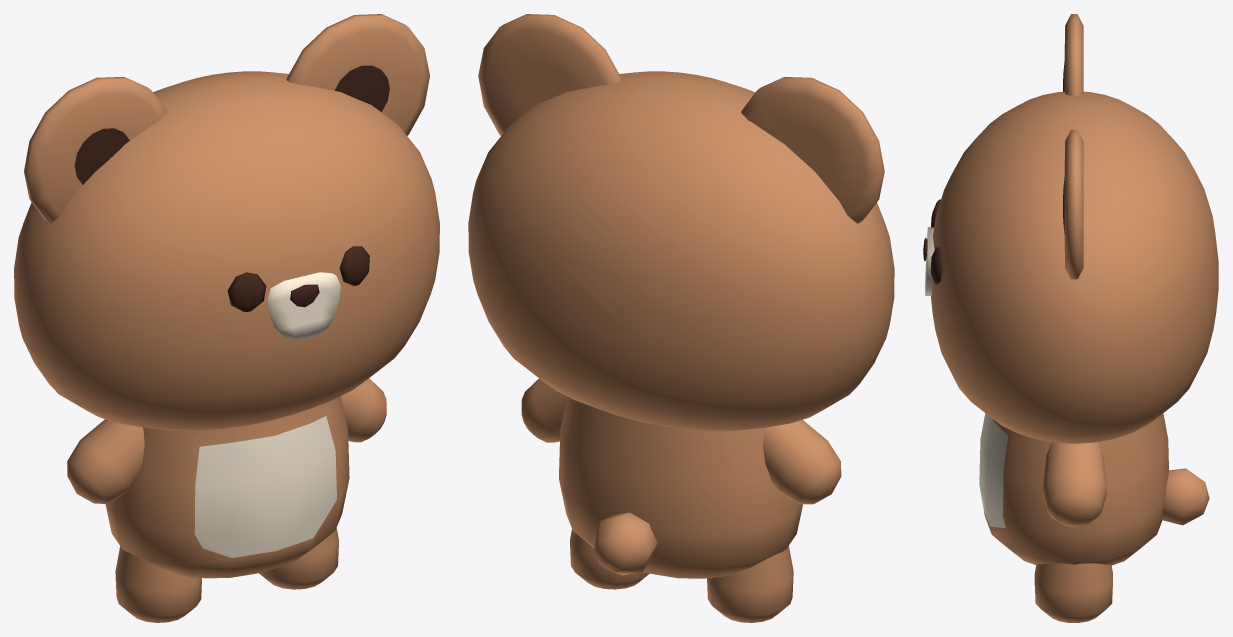
The model's file is bear_old.glb.
The picture shows the model from 3 angles, left to right: view 1: azimuth 30°, elevation 25°; view 2: azimuth 150°, elevation 25°; view 3: azimuth 270°, elevation 25°; orthographic projection. The views are drawn at different scales.
Parts seen in each view (by area): view 1: head, body, handR, legR, legL, handL; view 2: head, body, handR, legR, handL, legL; view 3: head, body, handL, legL.
Boxes of the visible parts, x1,y1,x2,y2 form: head: (14,14,439,430); body: (105,396,349,578); handR: (67,419,144,503); legR: (115,546,201,622); legL: (259,528,338,589); handL: (341,378,386,442); head: (468,14,894,431); body: (559,397,802,578); handR: (763,420,841,504); legR: (707,546,793,622); handL: (521,378,567,442); legL: (570,529,649,589); head: (923,14,1218,443); body: (979,413,1209,565); handL: (1043,442,1106,526); legL: (1034,563,1112,622).
Bounding box in the file's own units: 0.4031 × 0.5303 × 0.2785.
